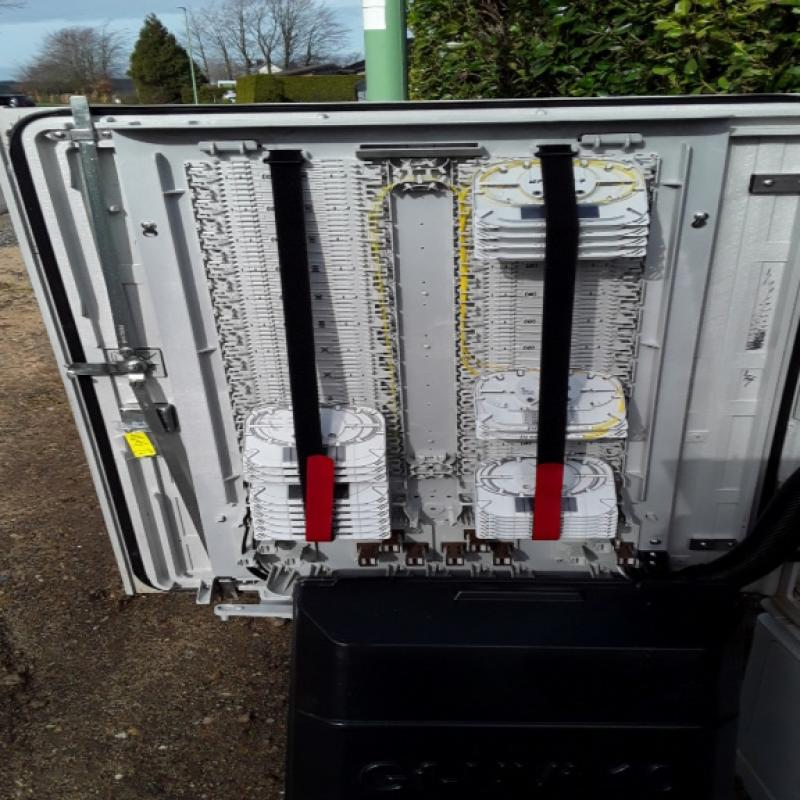NT-Gehause: (0, 92, 800, 799)
Spleiskassetten: (179, 151, 410, 552), (455, 146, 671, 544)
